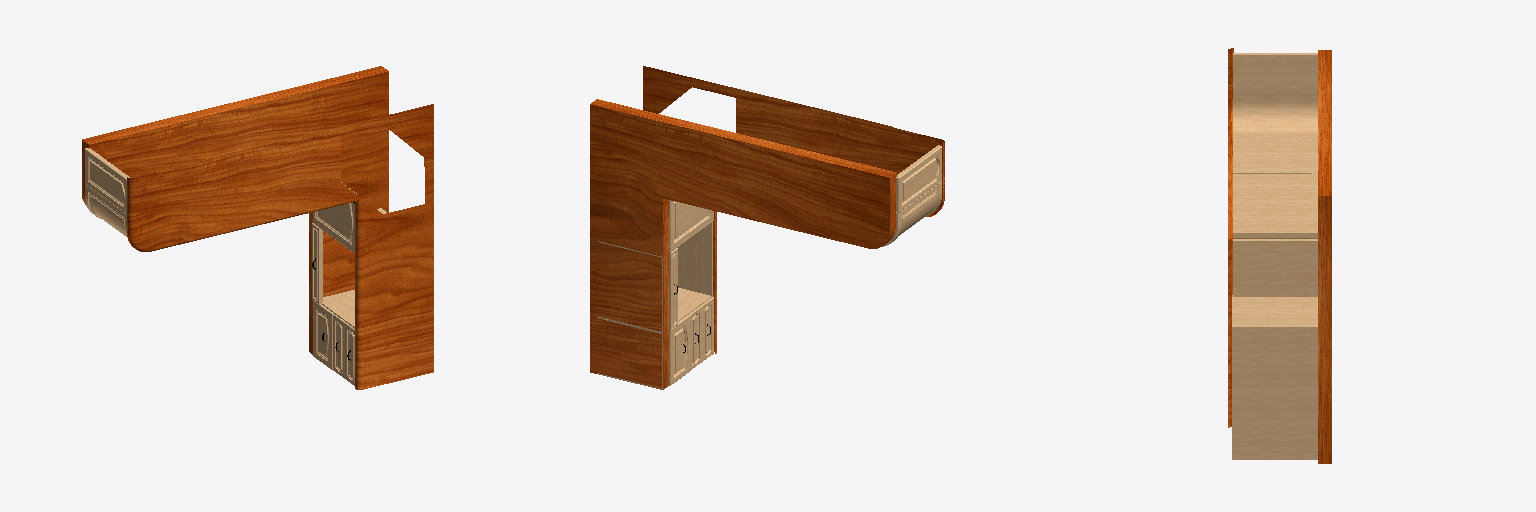
3 renders of one model, left to right at view 1: azimuth 30°, elevation 25°; view 2: azimuth 150°, elevation 25°; view 3: azimuth 270°, elevation 25°, orthographic.
Parts seen in each view (by area): view 1: Shape01, Line43, Loft31, Loft38, FBox03, Loft35, Loft33; view 2: Line43, Shape01, Loft31, FBox03, Loft38, Loft33, Loft35; view 3: Loft31, FBox03, Line43, FBox02, Shape01.
Part boxes in pixels (left/top/right/bottom): Shape01: left=127, top=104, right=433, bottom=389; Line43: left=82, top=66, right=388, bottom=354; Loft31: left=85, top=148, right=356, bottom=369; Loft38: left=312, top=223, right=322, bottom=304; FBox03: left=322, top=208, right=386, bottom=327; Loft35: left=333, top=314, right=345, bottom=378; Loft33: left=345, top=323, right=354, bottom=385; Line43: left=590, top=99, right=896, bottom=389; Shape01: left=643, top=66, right=944, bottom=353; Loft31: left=669, top=145, right=941, bottom=385; FBox03: left=598, top=222, right=712, bottom=332; Loft38: left=669, top=248, right=677, bottom=329; Loft33: left=701, top=297, right=713, bottom=361; Loft35: left=689, top=306, right=701, bottom=370; Loft31: left=1233, top=53, right=1317, bottom=296; FBox03: left=1232, top=295, right=1317, bottom=403; Line43: left=1318, top=50, right=1331, bottom=463; FBox02: left=1232, top=404, right=1317, bottom=459; Shape01: left=1228, top=48, right=1233, bottom=427.
Bounding box in the file's own units: 111 × 93.38 × 33.03.
Materials: 3 (2 with a texture image).